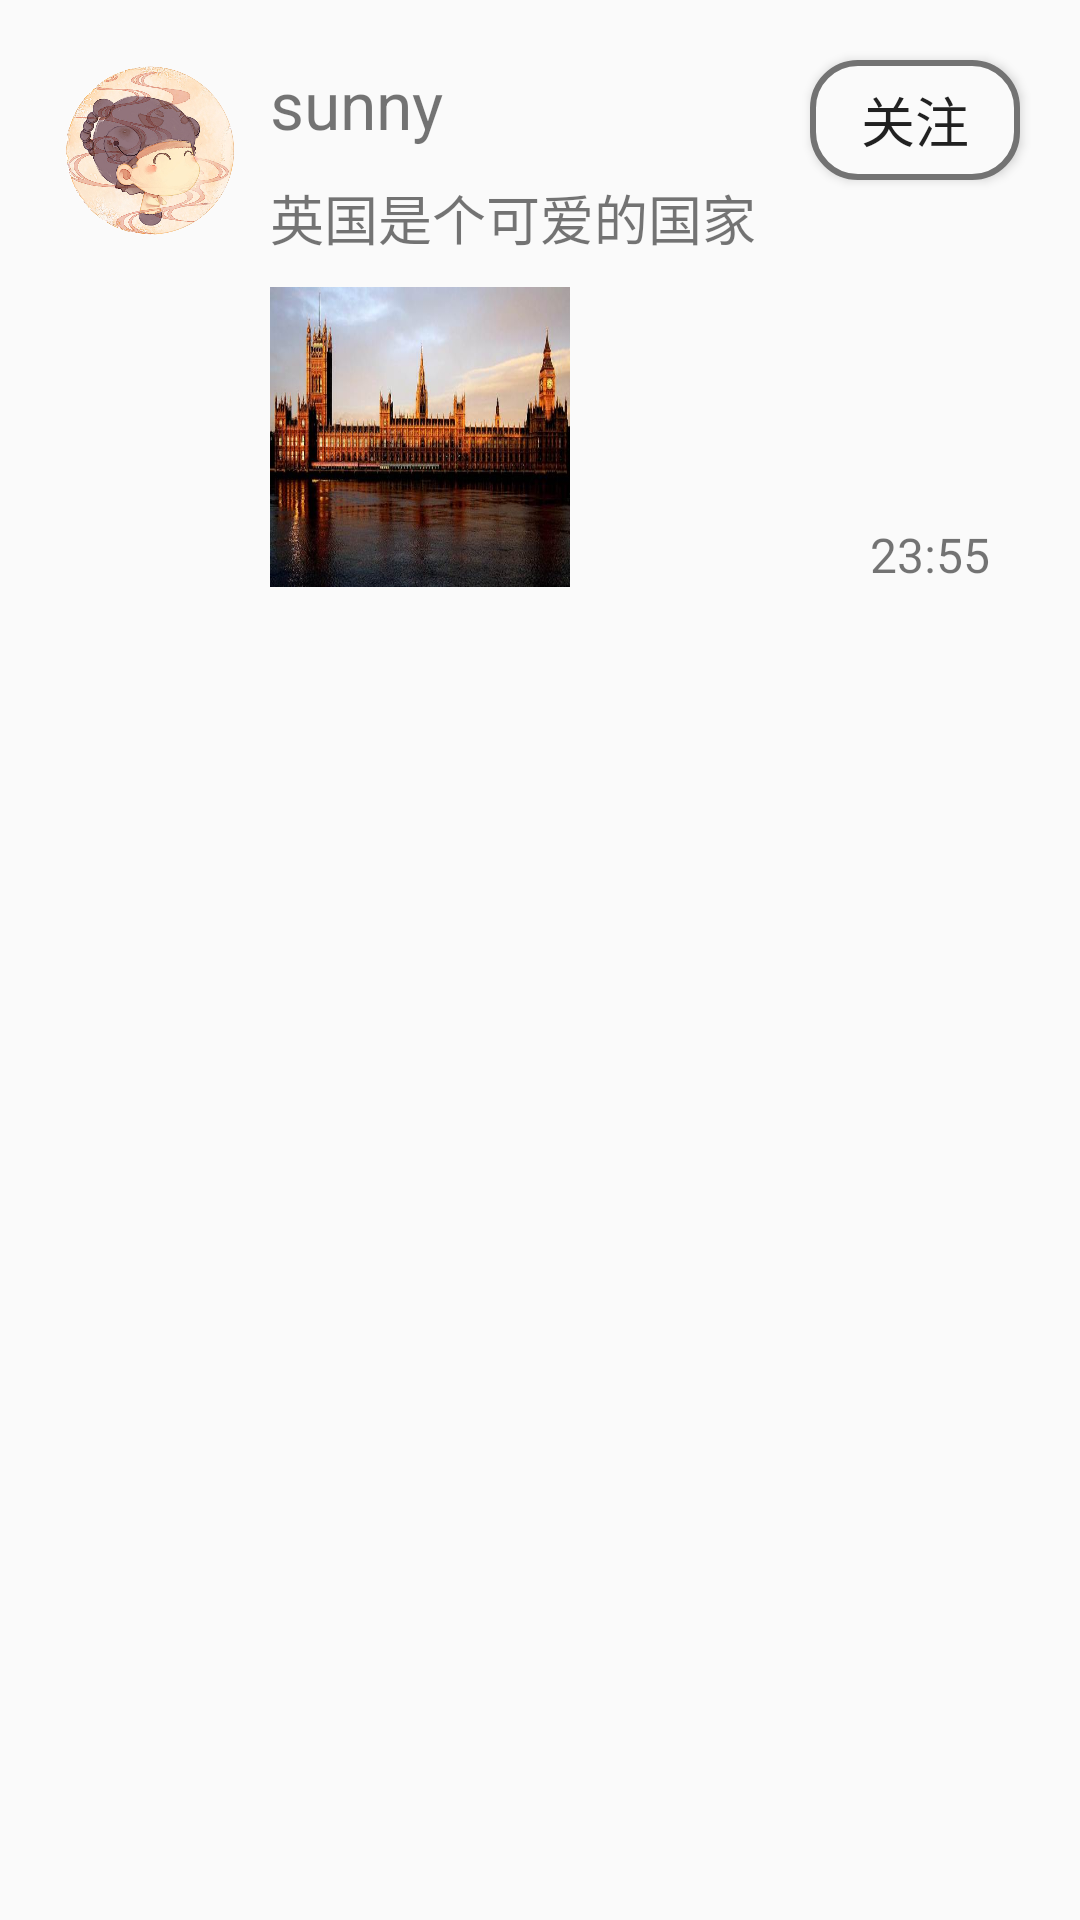

Screen size 1080×1920. Icon name, then its box in pixels as [x1,y1,x2,y2]:
touxiang: [66,66,234,235]
